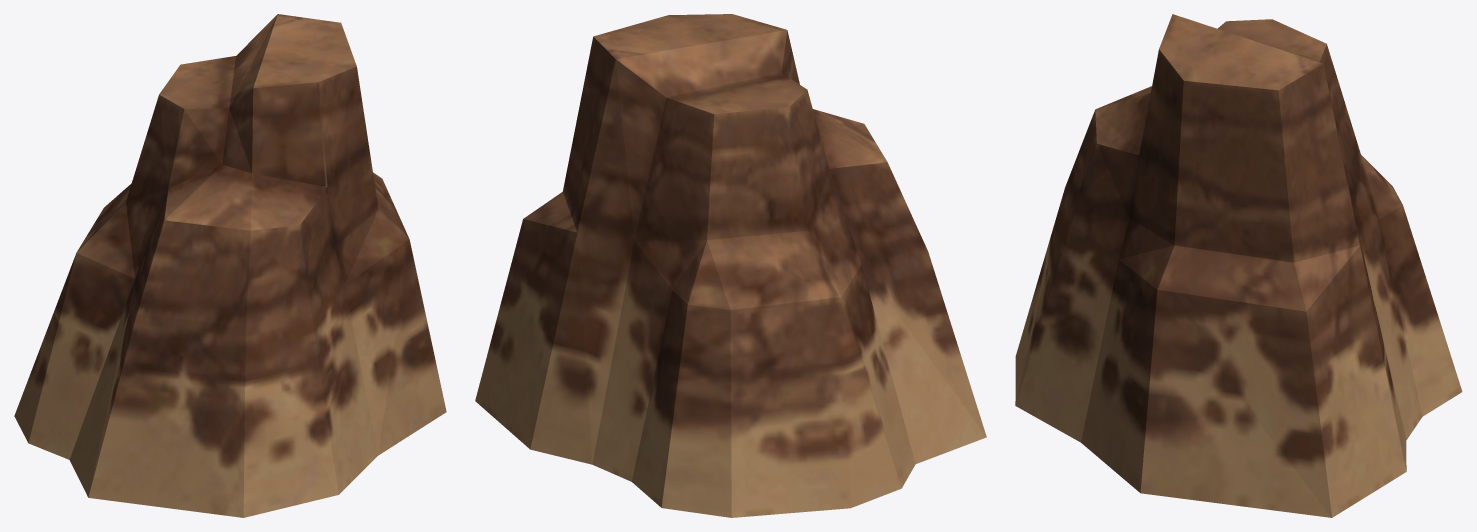
The model's file is Item_5008_shitou_shitou01.FBX.
The picture shows the model from 3 angles, left to right: view 1: azimuth 30°, elevation 25°; view 2: azimuth 150°, elevation 25°; view 3: azimuth 270°, elevation 25°; orthographic projection. The views are drawn at different scales.
Parts seen in each view (by area): view 1: Item_5008_shitou_shitou01; view 2: Item_5008_shitou_shitou01; view 3: Item_5008_shitou_shitou01.
Boxes of the visible parts, <box> form: Item_5008_shitou_shitou01: <box>14,14,446,517</box>; Item_5008_shitou_shitou01: <box>475,14,986,517</box>; Item_5008_shitou_shitou01: <box>1015,14,1462,517</box>.
Size of the model in its own units: 709 by 599 by 630.
